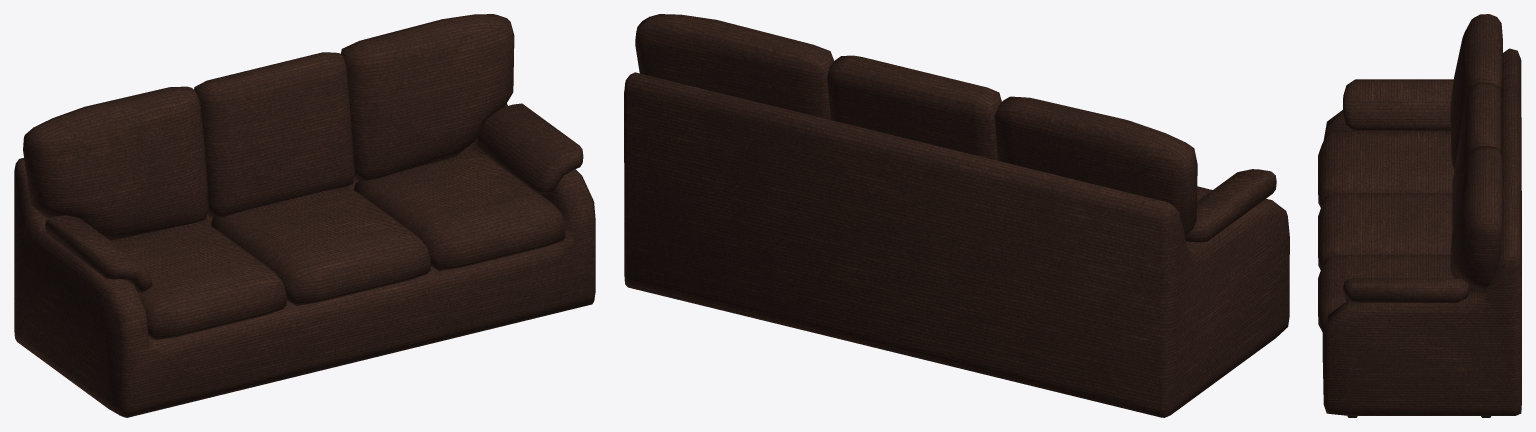
The model's file is sofa_1.fbx.
The picture shows the model from 3 angles, left to right: view 1: azimuth 30°, elevation 25°; view 2: azimuth 150°, elevation 25°; view 3: azimuth 270°, elevation 25°; orthographic projection. The views are drawn at different scales.
Visible parts, largest first — view 1: sofa_1; view 2: sofa_1; view 3: sofa_1.
Part boxes in pixels (box(x1,y1,x2,y2)): sofa_1: box(14, 14, 595, 417); sofa_1: box(624, 14, 1289, 417); sofa_1: box(1318, 14, 1521, 417).
Size of the model in its own units: 2.61 by 1.07 by 1.23.
